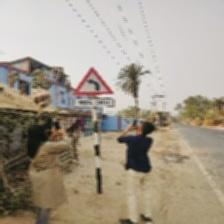Left-Turn: (72, 67, 116, 115)
